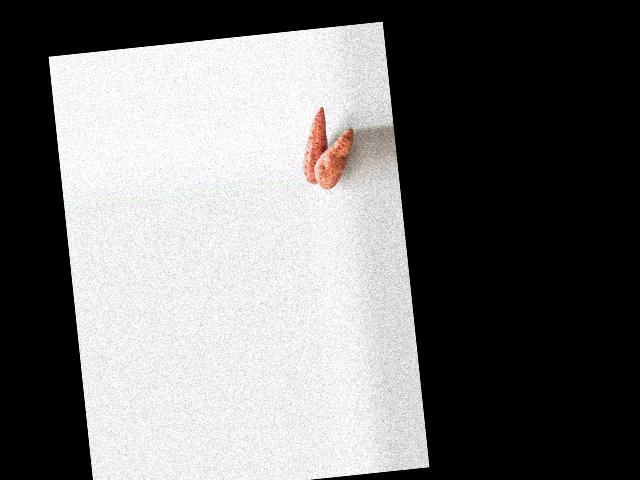sweet_potato: (298, 111, 332, 184)
